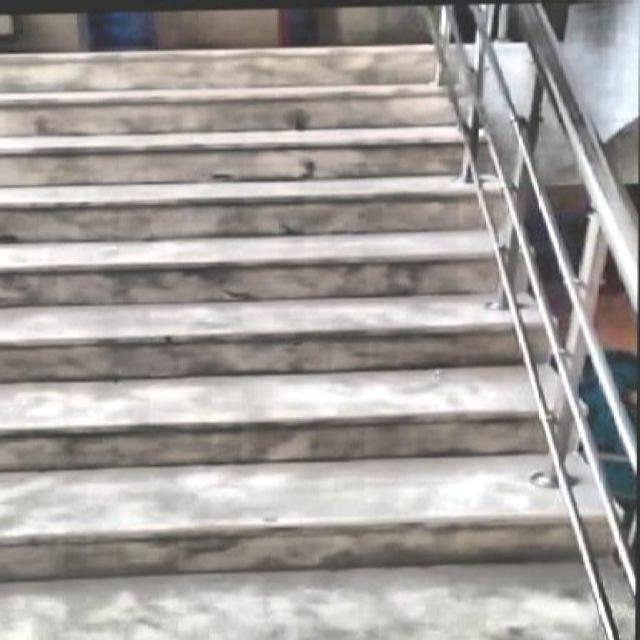stair: (2, 39, 580, 638)
